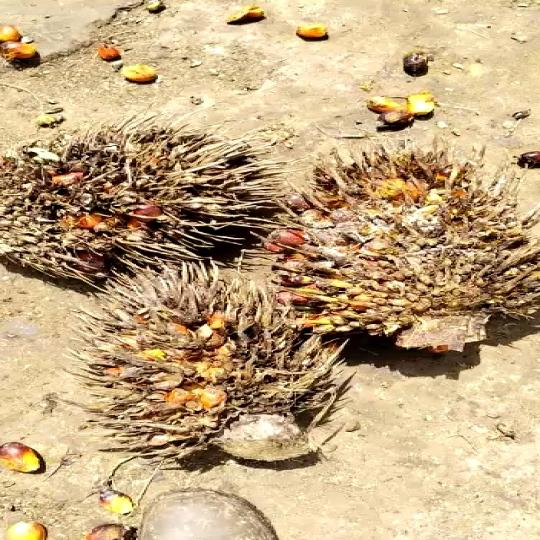terlalu masak: (261, 152, 533, 356), (78, 270, 342, 467), (0, 124, 262, 285)
